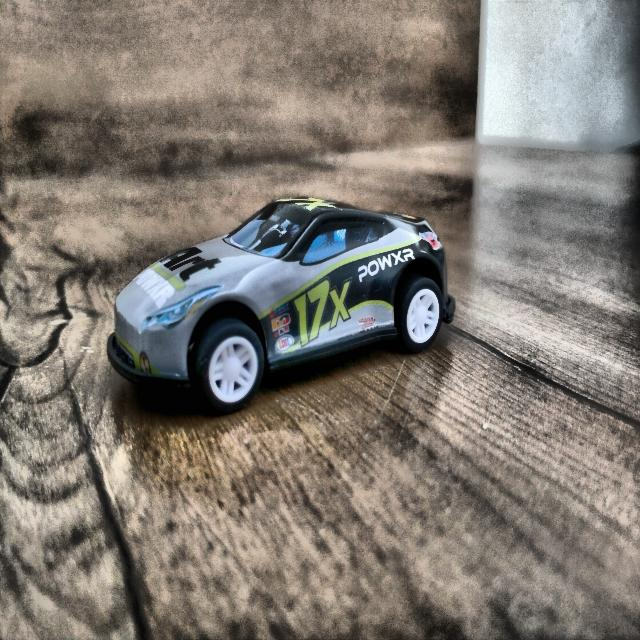Car: (113, 194, 454, 414)
